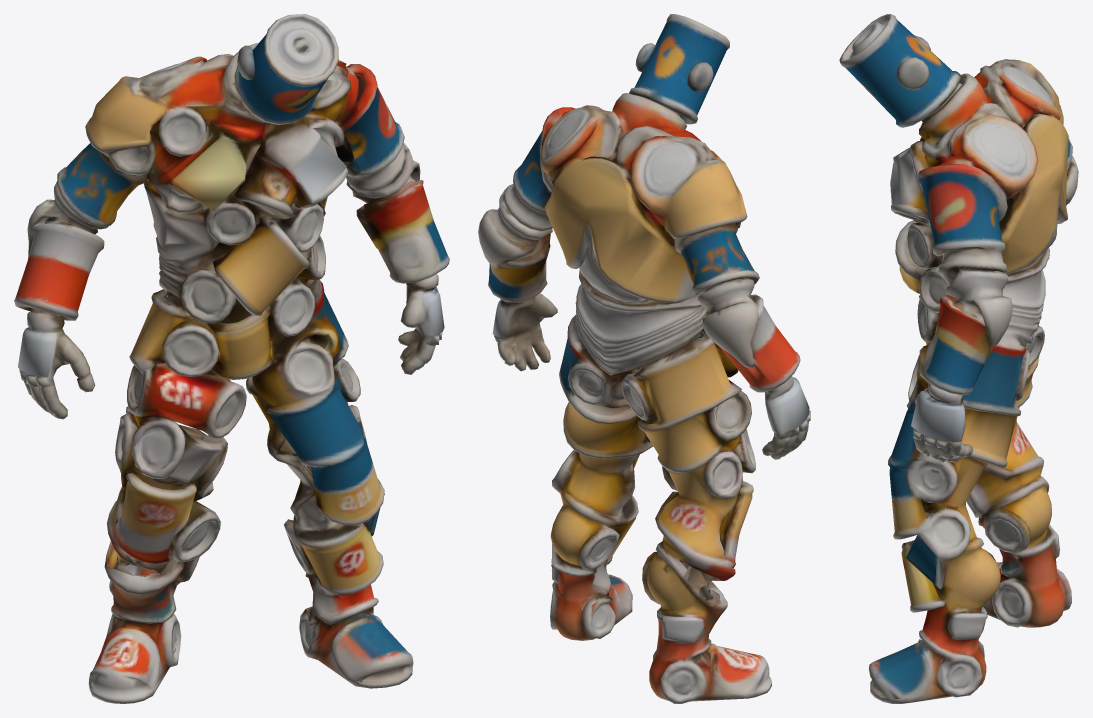
The model's file is Tin_Man_1.glb.
The picture shows the model from 3 angles, left to right: view 1: azimuth 30°, elevation 25°; view 2: azimuth 150°, elevation 25°; view 3: azimuth 270°, elevation 25°; orthographic projection. The views are drawn at different scales.
Parts seen in each view (by area): view 1: material; view 2: material; view 3: material.
Part boxes in pixels (box(x1,y1,x2,y2)): material: box(14, 14, 449, 703); material: box(478, 14, 810, 703); material: box(839, 14, 1078, 703).
Size of the model in its own units: 1.12 by 1.9 by 0.6522.
Materials: 1 (1 with a texture image).
